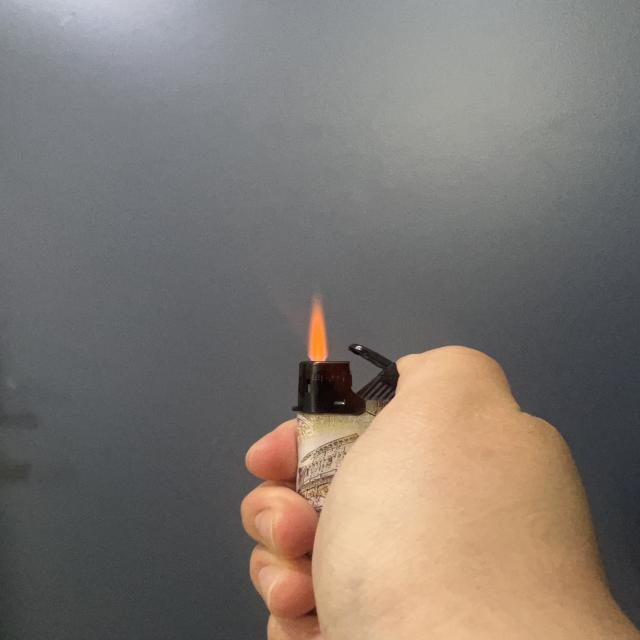fire: (302, 291, 333, 364)
